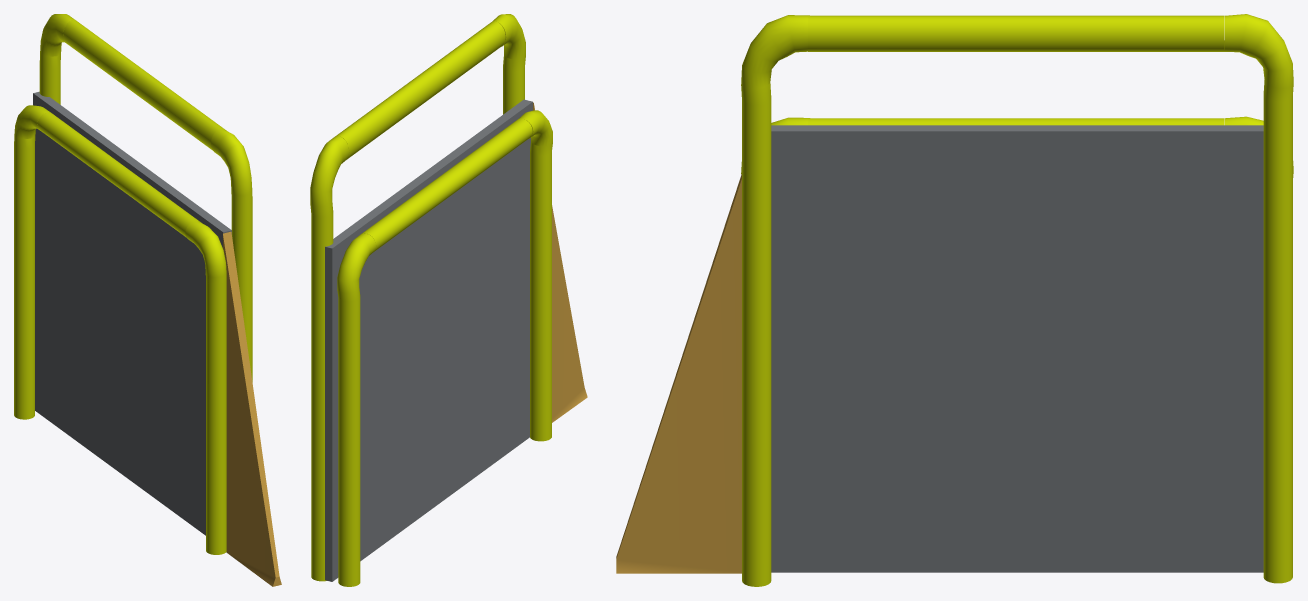
File: BarrierRIGHTEND.fbx
The picture shows the model from 3 angles, left to right: view 1: azimuth 30°, elevation 25°; view 2: azimuth 150°, elevation 25°; view 3: azimuth 270°, elevation 25°; orthographic projection. The views are drawn at different scales.
Parts seen in each view (by area): view 1: polySurface225; view 2: polySurface225; view 3: polySurface225.
Part boxes in pixels (<box>): polySurface225: <box>14,14,281,586</box>; polySurface225: <box>310,14,587,586</box>; polySurface225: <box>616,14,1293,586</box>.
Bounding box in the file's own units: 0.5133 × 4.03 × 4.4.
